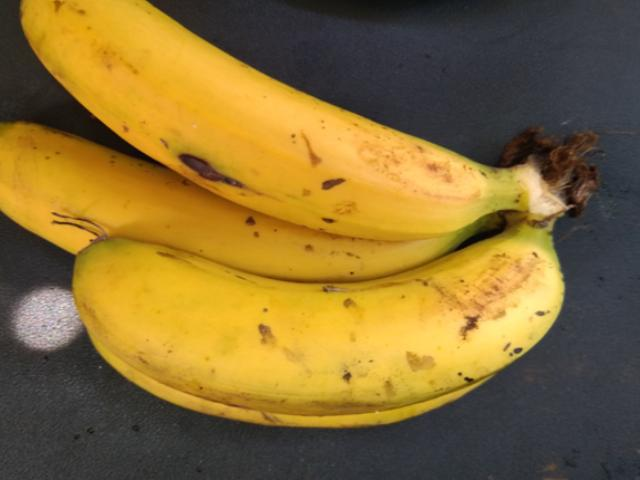ripe: (35, 0, 490, 230), (85, 229, 559, 441), (0, 88, 416, 279)
